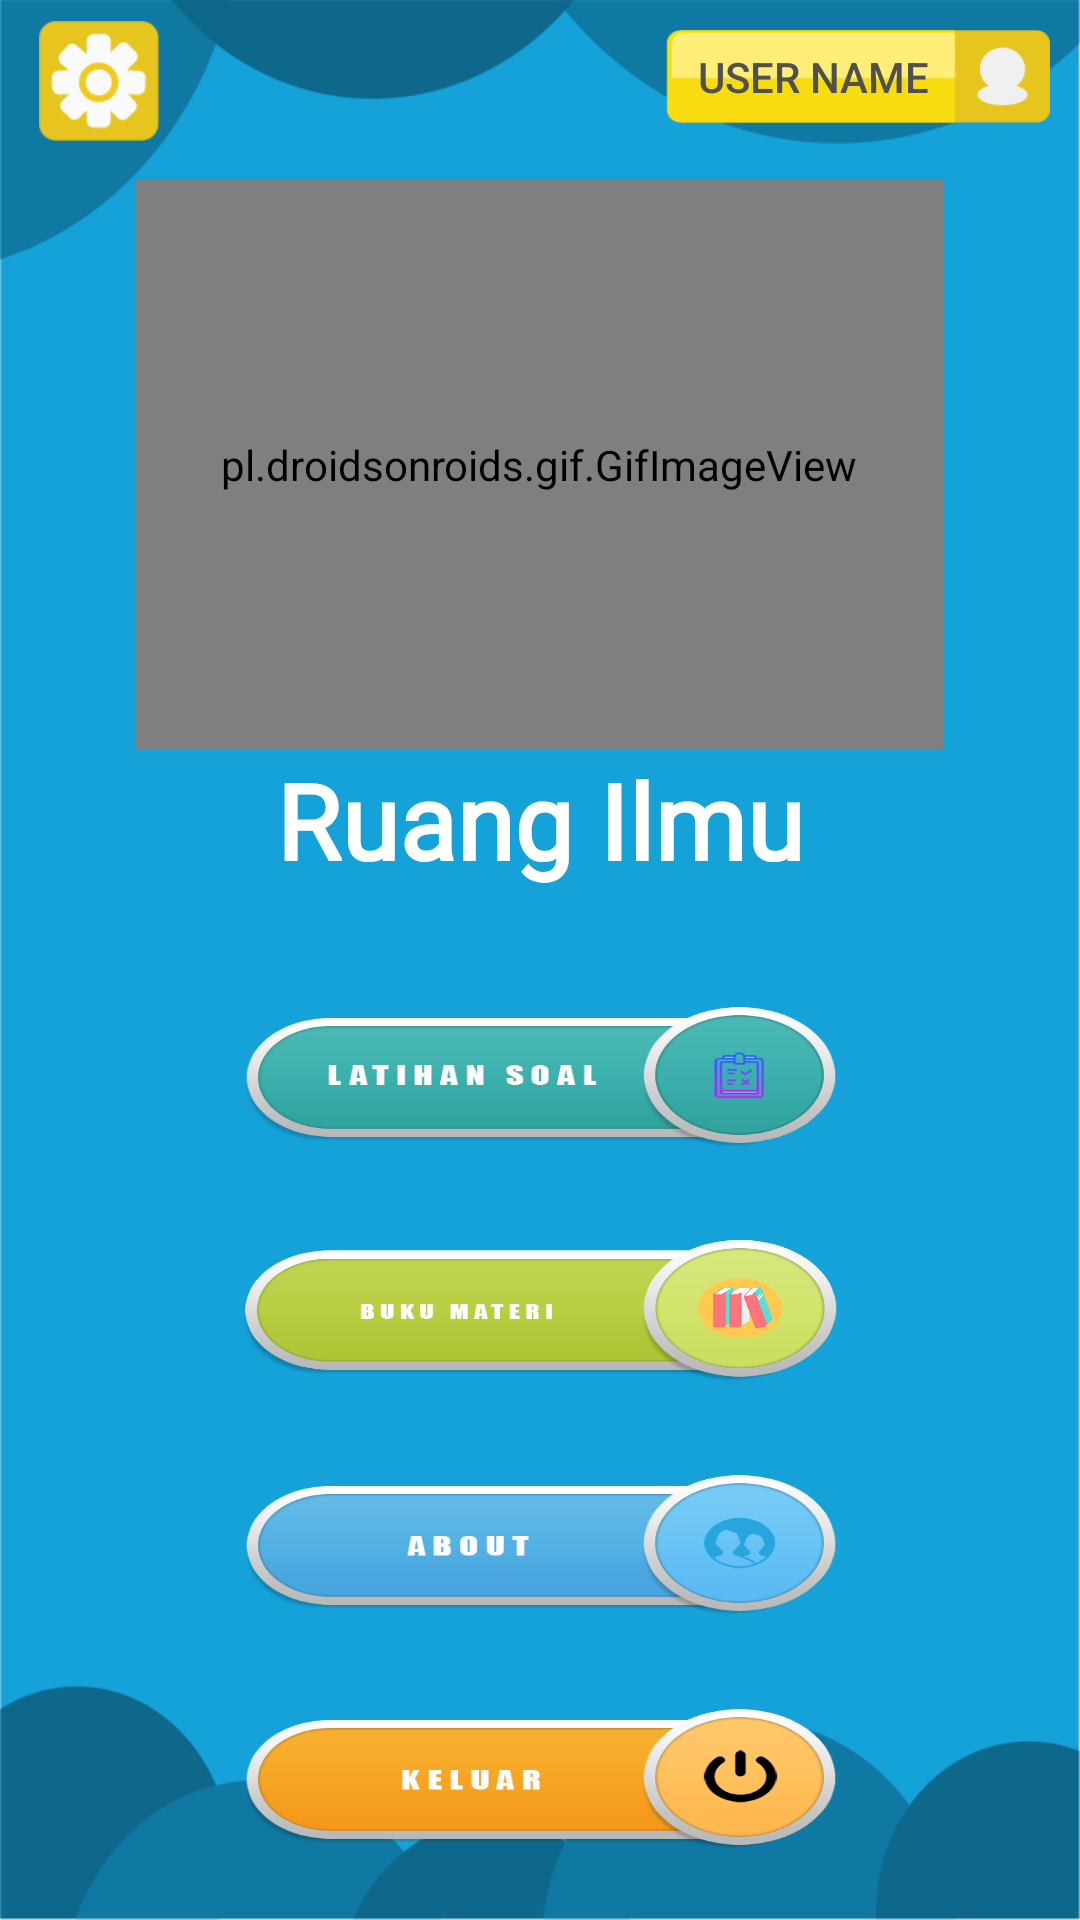

Icon bounding boxes for this 1080 x 1920 phone screenshot, format (x1, y1, x2, y2):
pengaturan: (39, 21, 159, 141)
